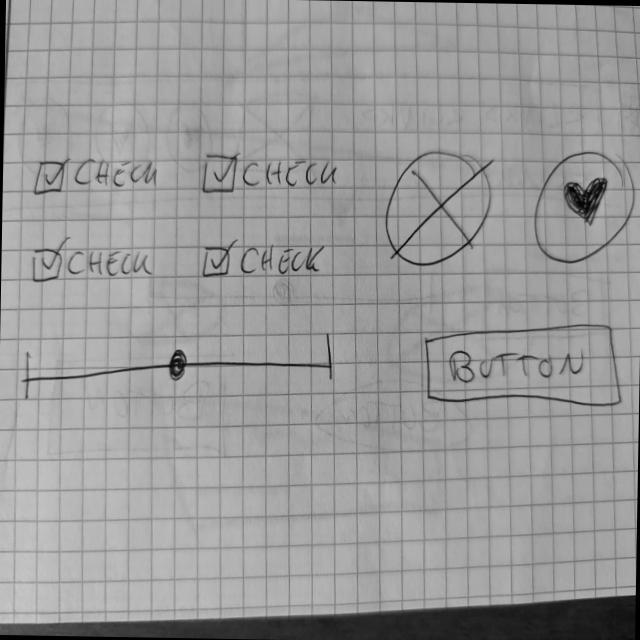button: (423, 318, 626, 410)
checkbox: (200, 151, 340, 198), (33, 155, 161, 200), (31, 244, 156, 289), (202, 241, 329, 282)
slider: (24, 325, 338, 409), (383, 151, 495, 271)
